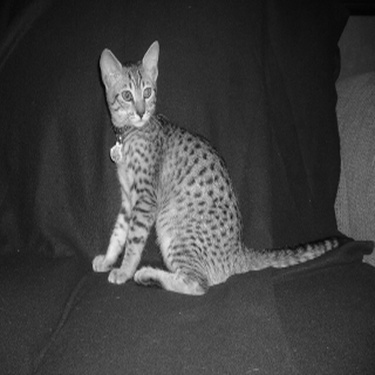cat: (58, 36, 342, 297)
